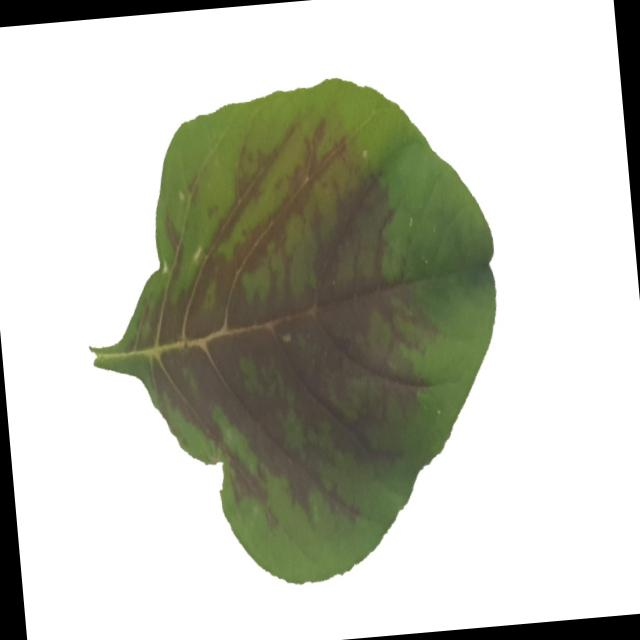Medicinal-Arive Dantu: (69, 61, 522, 600)
